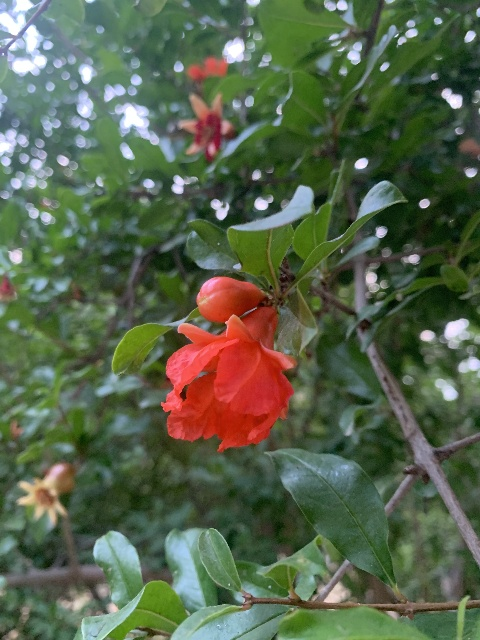bud: (196, 276, 266, 323)
early-fruit: (16, 462, 77, 525)
flower: (160, 306, 297, 453), (179, 92, 234, 162)
